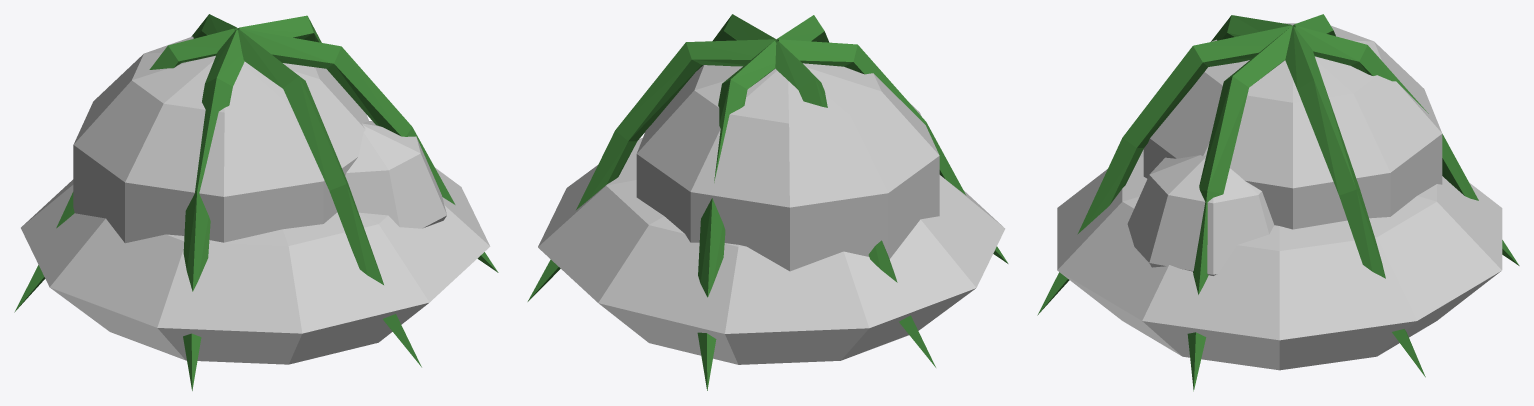
File: nerve_bundle.obj
3 views of the same model, side by side, from view 1: azimuth 30°, elevation 25°; view 2: azimuth 150°, elevation 25°; view 3: azimuth 270°, elevation 25° (orthographic).
Visible parts, largest first — view 1: nerve_bundle_0, nerve_bundle_1, nerve_bundle_2, nerve_bundle_7, nerve_bundle_6, nerve_bundle_8, nerve_bundle_5, nerve_bundle_3, nerve_bundle_4; view 2: nerve_bundle_0, nerve_bundle_1, nerve_bundle_3, nerve_bundle_4, nerve_bundle_6, nerve_bundle_5, nerve_bundle_8, nerve_bundle_7; view 3: nerve_bundle_0, nerve_bundle_1, nerve_bundle_2, nerve_bundle_7, nerve_bundle_3, nerve_bundle_8, nerve_bundle_4, nerve_bundle_6, nerve_bundle_5.
Part boxes in pixels (x1,y1,x2,y2): nerve_bundle_0: (21, 167, 490, 364); nerve_bundle_1: (73, 36, 368, 243); nerve_bundle_2: (345, 121, 446, 228); nerve_bundle_7: (238, 29, 421, 367); nerve_bundle_6: (183, 29, 244, 390); nerve_bundle_8: (239, 28, 498, 272); nerve_bundle_5: (14, 28, 234, 312); nerve_bundle_3: (237, 15, 321, 42); nerve_bundle_4: (191, 14, 237, 38); nerve_bundle_0: (538, 137, 1005, 364); nerve_bundle_1: (636, 63, 939, 271); nerve_bundle_3: (527, 39, 774, 301); nerve_bundle_4: (697, 41, 776, 390); nerve_bundle_6: (778, 39, 1008, 263); nerve_bundle_5: (775, 41, 935, 367); nerve_bundle_8: (697, 14, 776, 70); nerve_bundle_7: (776, 15, 829, 42); nerve_bundle_0: (1057, 149, 1502, 370); nerve_bundle_1: (1143, 23, 1442, 229); nerve_bundle_2: (1127, 155, 1274, 275); nerve_bundle_7: (1037, 25, 1290, 315); nerve_bundle_3: (1285, 26, 1425, 377); nerve_bundle_8: (1187, 26, 1292, 391); nerve_bundle_4: (1295, 25, 1519, 265); nerve_bundle_6: (1211, 15, 1292, 41); nerve_bundle_5: (1293, 14, 1335, 36).
Bounding box in the file's own units: 1.8 × 1.18 × 1.82.
